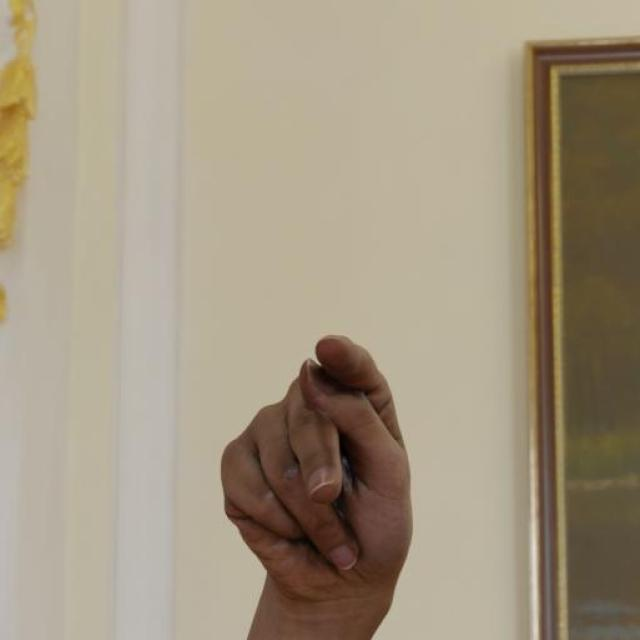P: (171, 302, 447, 640)
